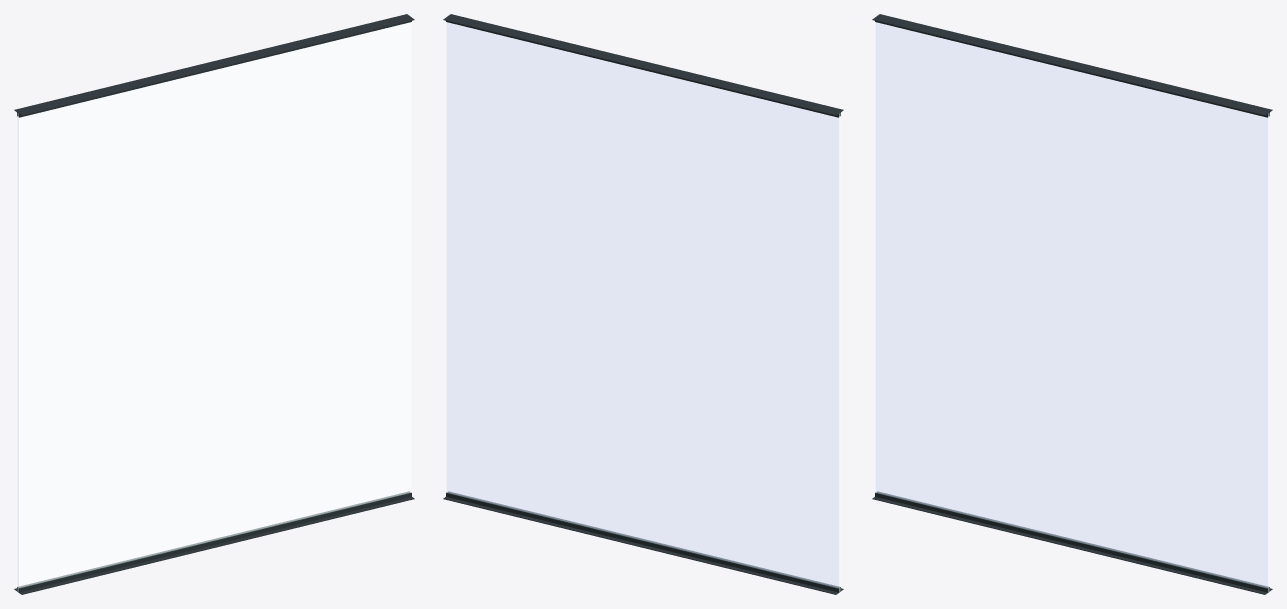
3 views of the same model, side by side, from view 1: azimuth 30°, elevation 25°; view 2: azimuth 150°, elevation 25°; view 3: azimuth 330°, elevation 25° (orthographic).
Visible parts, largest first — view 1: pane-c1-r1, head-web, base-lip-1, base-web, base-seal--1, head-lip-1; view 2: pane-c1-r1, head-web, base-lip--1, base-web, base-seal-1, head-lip--1; view 3: pane-c1-r1, head-web, base-lip-1, base-web, base-seal--1, head-lip-1.
Boxes of the visible parts, x1=… form: pane-c1-r1: x1=17, y1=22, x2=411, y2=591; head-web: x1=14, y1=14, x2=414, y2=115; base-lip-1: x1=19, y1=493, x2=411, y2=592; base-web: x1=14, y1=497, x2=414, y2=594; base-seal--1: x1=17, y1=491, x2=410, y2=591; head-lip-1: x1=19, y1=20, x2=411, y2=117; pane-c1-r1: x1=446, y1=22, x2=840, y2=591; head-web: x1=443, y1=14, x2=843, y2=115; base-lip--1: x1=446, y1=493, x2=838, y2=592; base-web: x1=443, y1=497, x2=843, y2=594; base-seal-1: x1=447, y1=491, x2=840, y2=591; head-lip--1: x1=446, y1=20, x2=838, y2=117; pane-c1-r1: x1=875, y1=22, x2=1269, y2=591; head-web: x1=872, y1=14, x2=1272, y2=115; base-lip-1: x1=875, y1=493, x2=1267, y2=592; base-web: x1=872, y1=497, x2=1272, y2=594; base-seal--1: x1=876, y1=491, x2=1269, y2=591; head-lip-1: x1=875, y1=20, x2=1267, y2=117.
Size of the model in its own units: 2.4 by 2.8 by 0.08.
